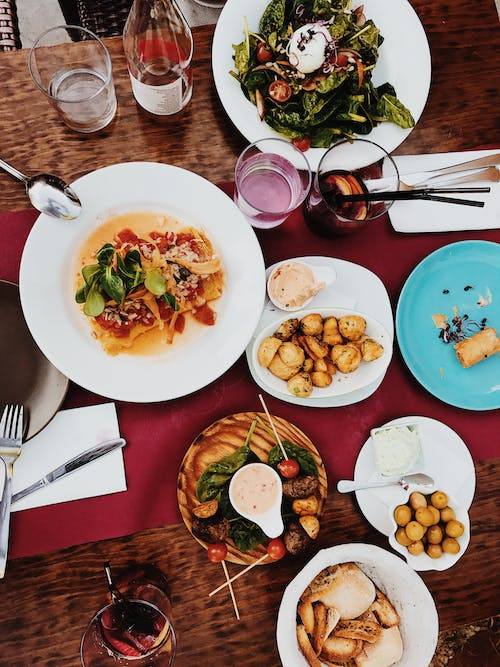knife: (10, 436, 128, 506), (398, 150, 500, 186)
